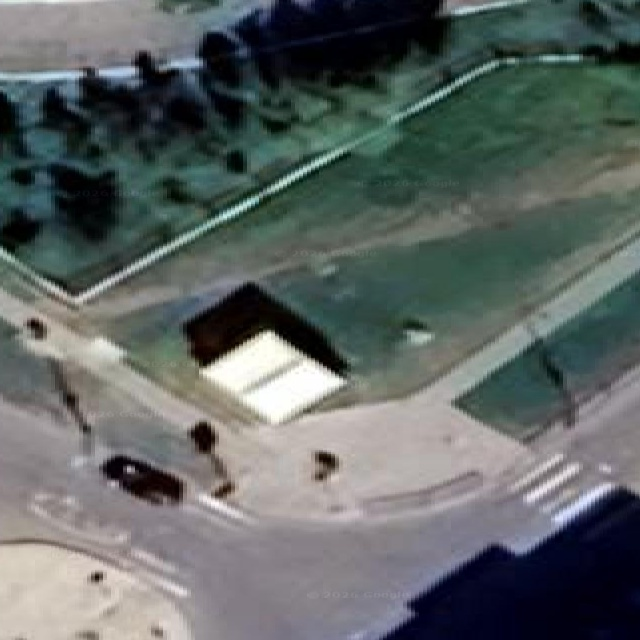car: (101, 454, 183, 504)
